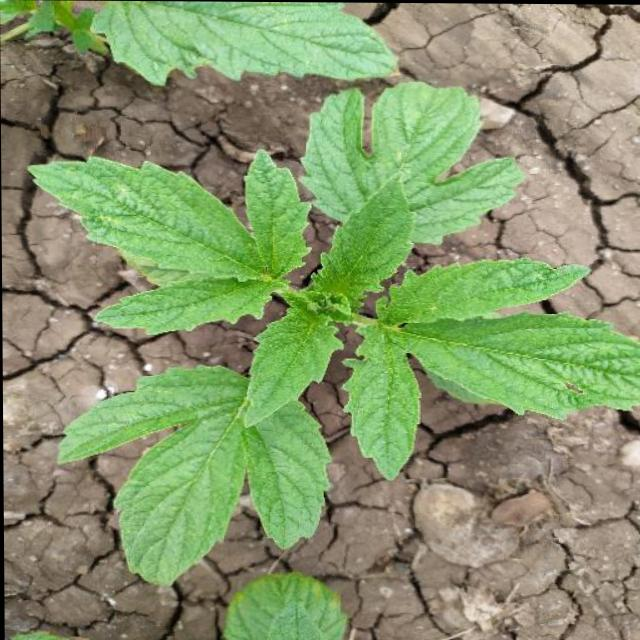crop: (33, 79, 640, 596)
